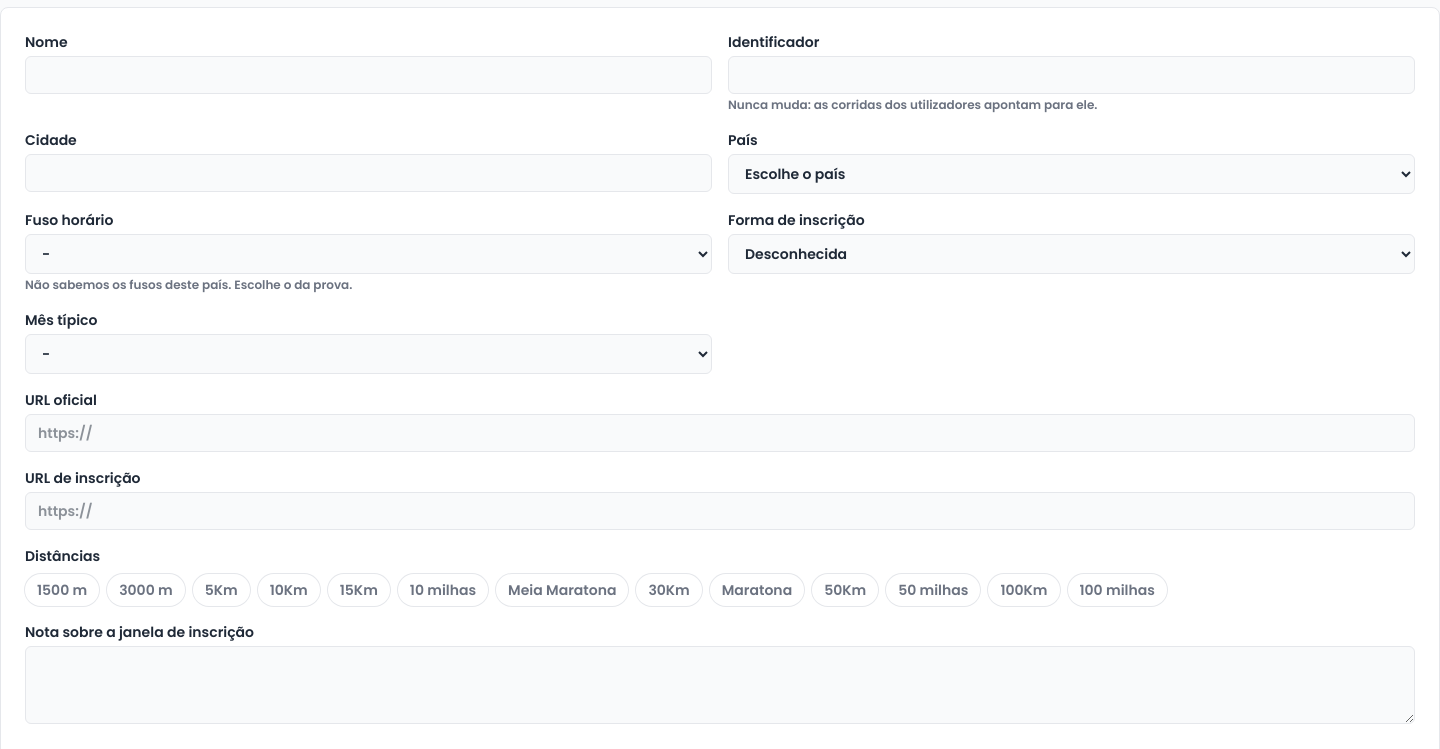
Test: AdminCatalogForm › will not store dated editions on an entry nobody confirmed
In the field labelled "Nome": (368, 75) [25,56,712,94], type "Maratona do Porto"
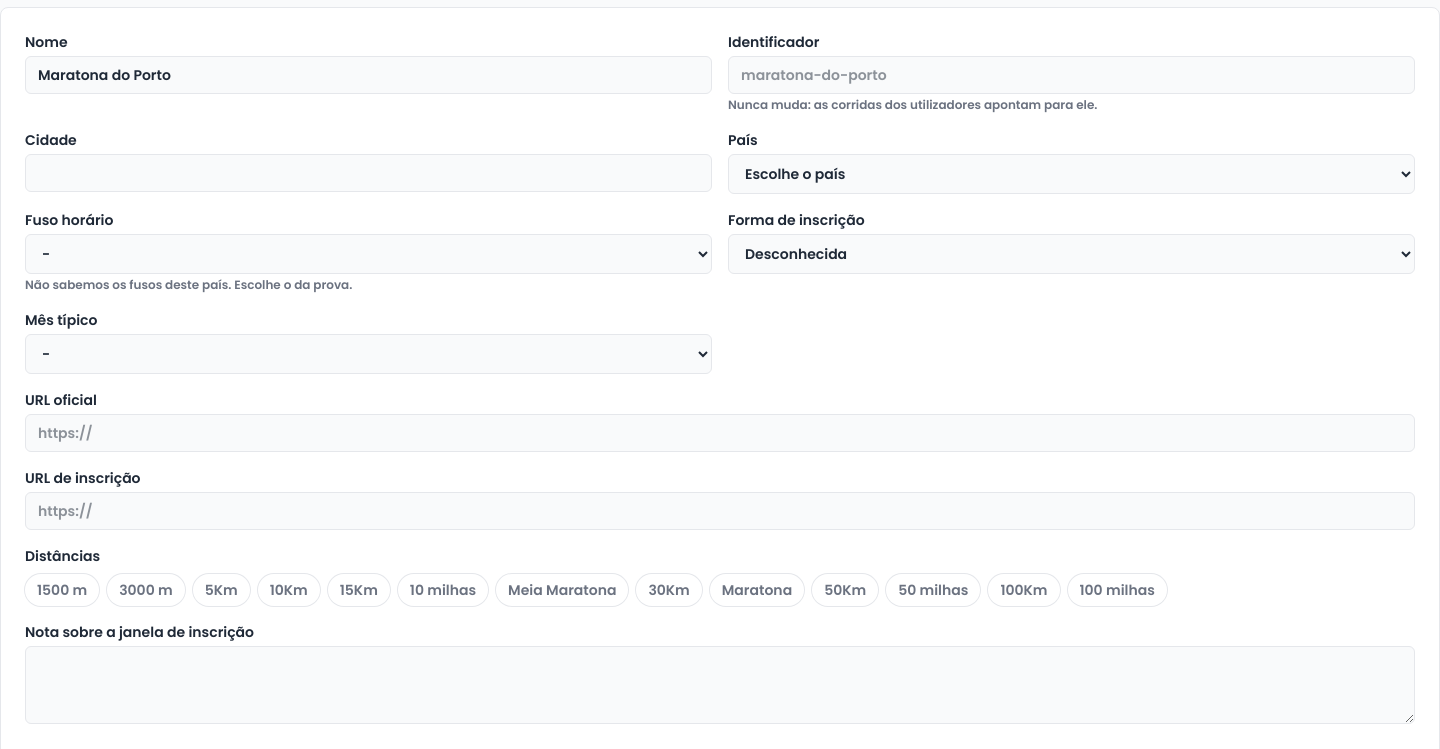
In the field labelled "Cidade": (368, 173) [25,154,712,192], type "Porto"
Select "Portugal" in the dropdown labelled "País": (1072, 174) [728,154,1415,194]
(page scrolled)
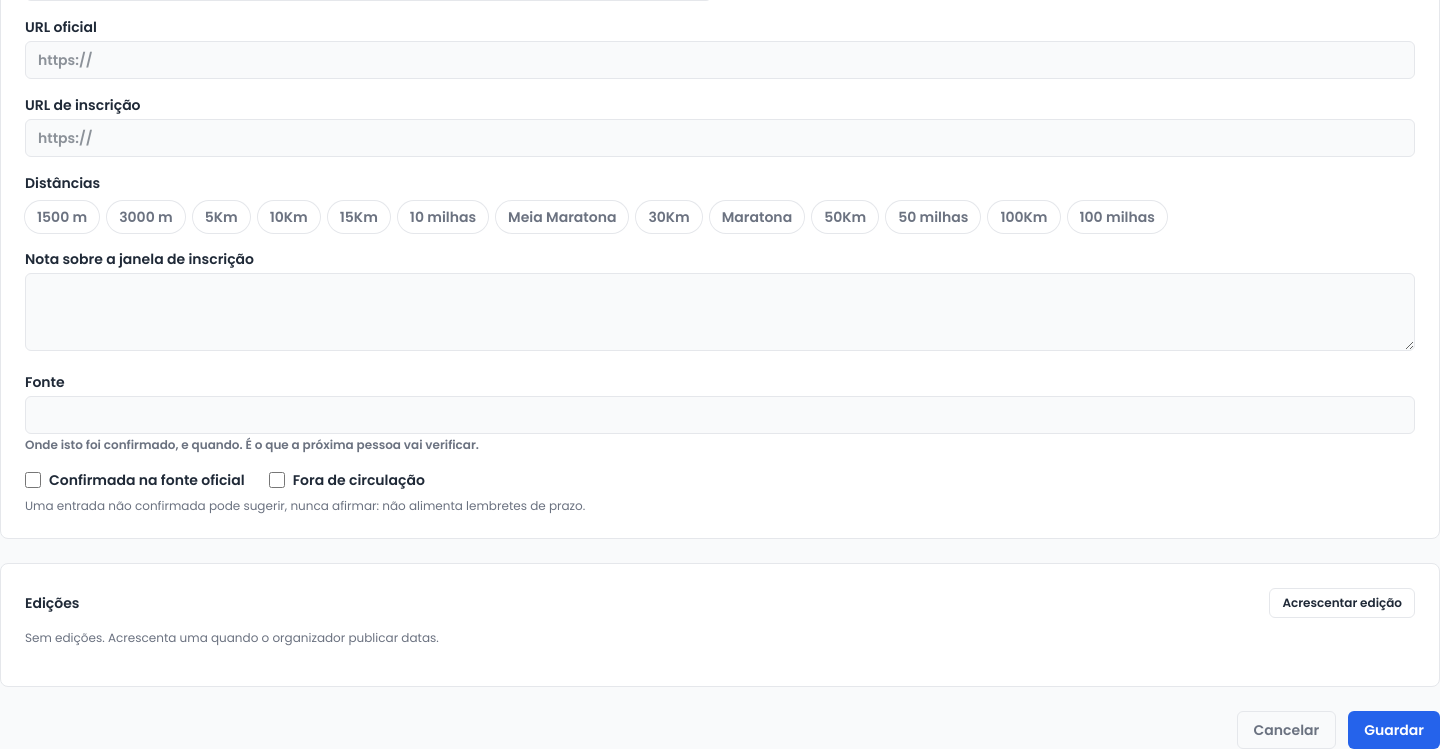
In the field labelled "Fonte": (720, 415) [25,396,1415,434], type "x"
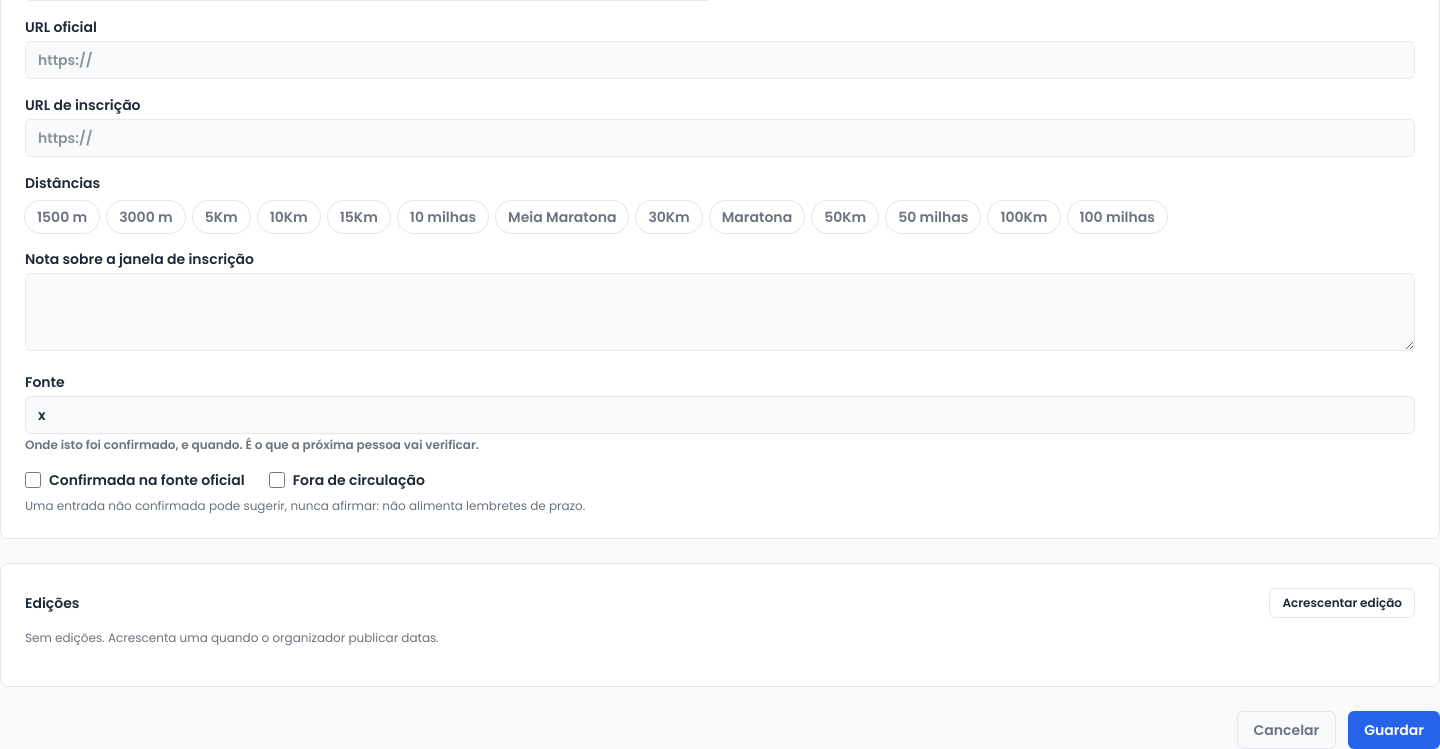
Click the text "Maratona": (757, 217) [710,201,804,233]
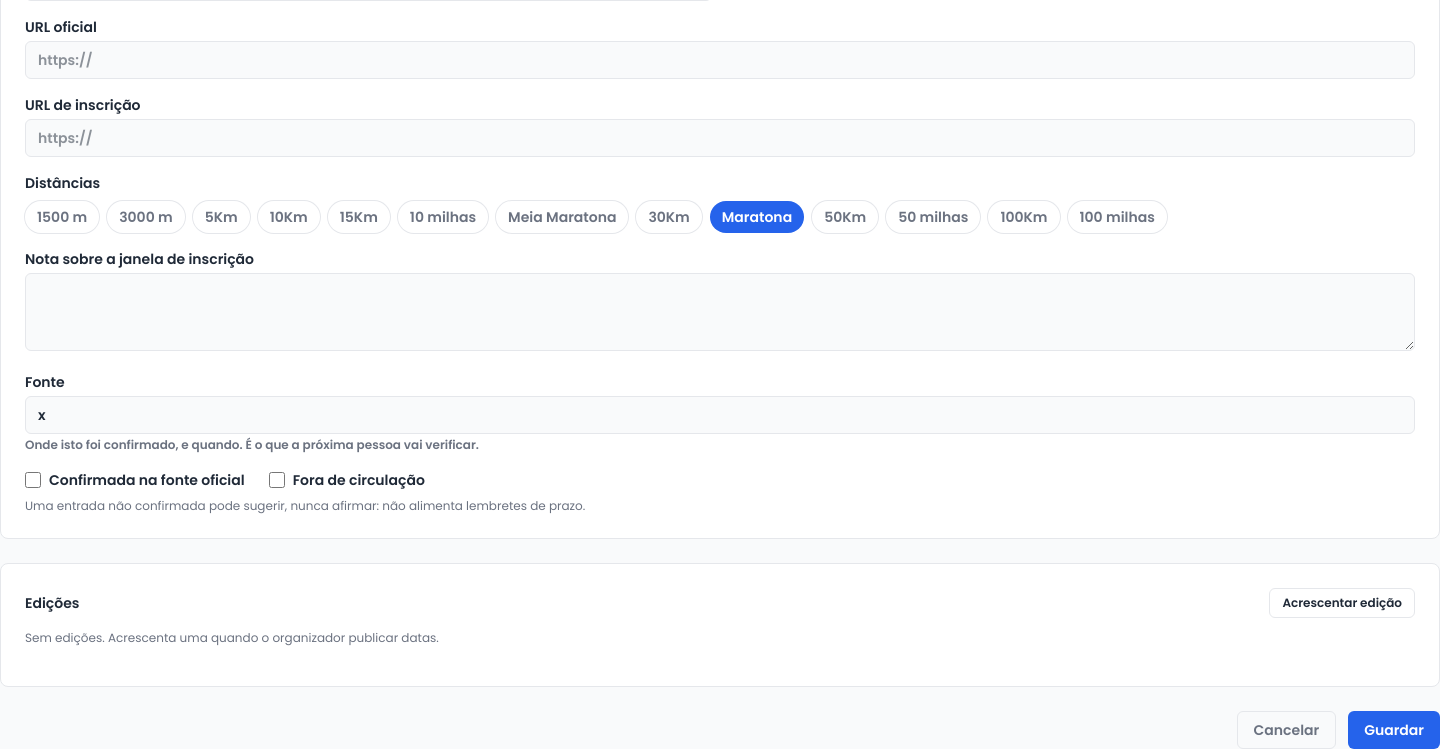
Click the button "Acrescentar edição": (1342, 603) [1269,588,1415,618]
(page scrolled)
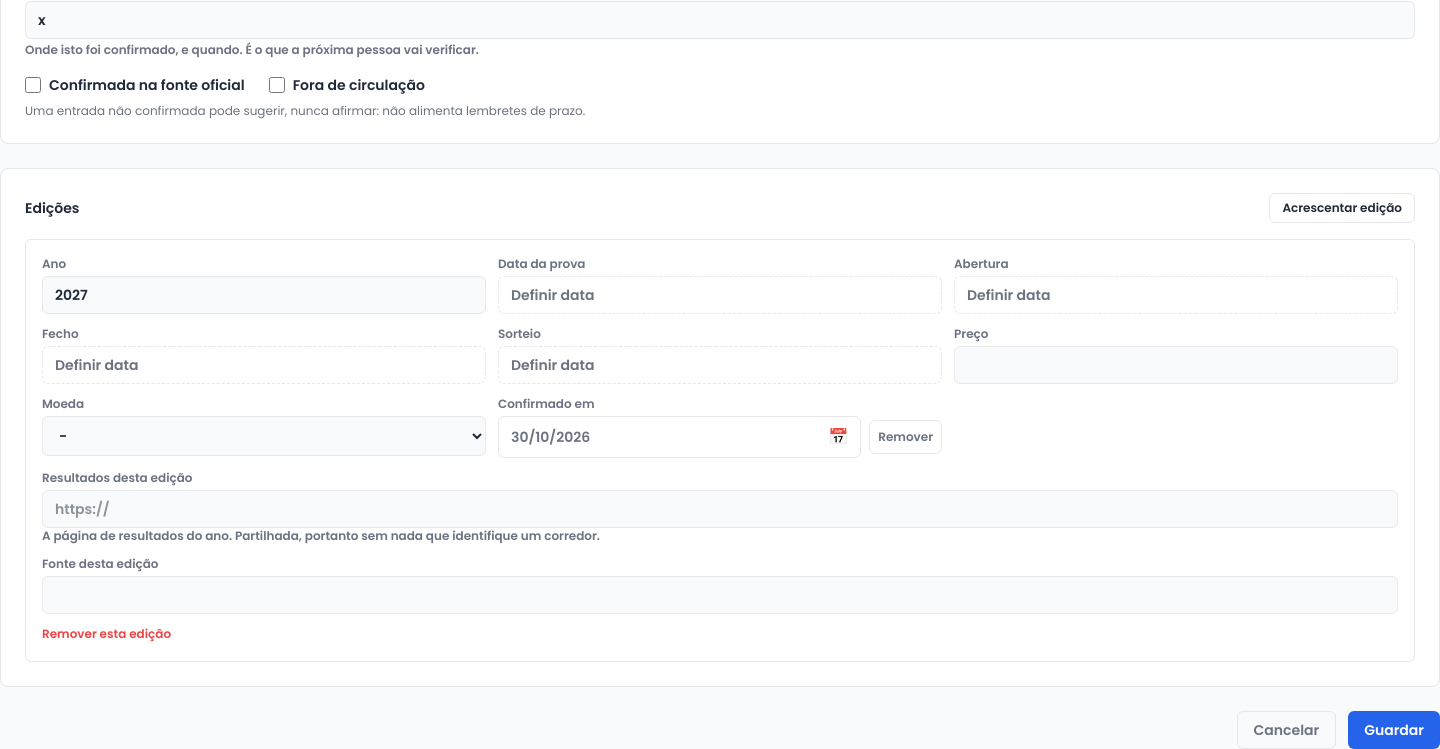
Click the button "Guardar": (1394, 730) [1348,711,1439,748]
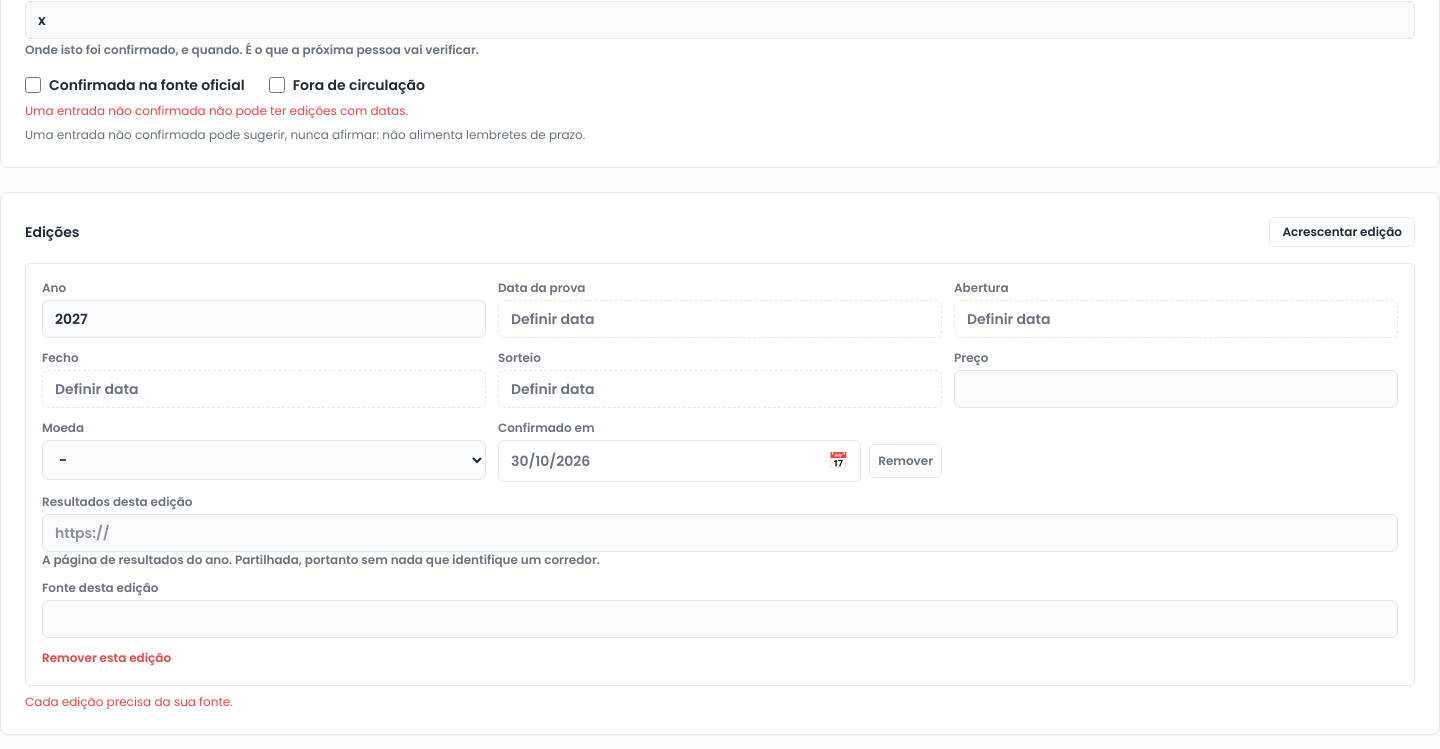
Check: the text "Uma entrada não confirmada não pode ter edições com datas." is shown, box [25,102,408,119]
